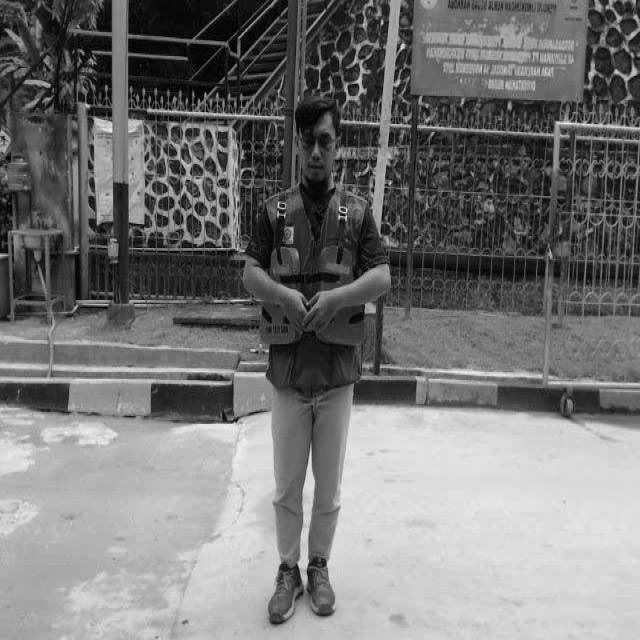10: (200, 83, 427, 640)
11: (259, 183, 366, 389)
7: (278, 284, 315, 329), (306, 284, 338, 332)
8: (292, 95, 342, 178)
helmet_white: (269, 559, 306, 622), (306, 557, 338, 620)
